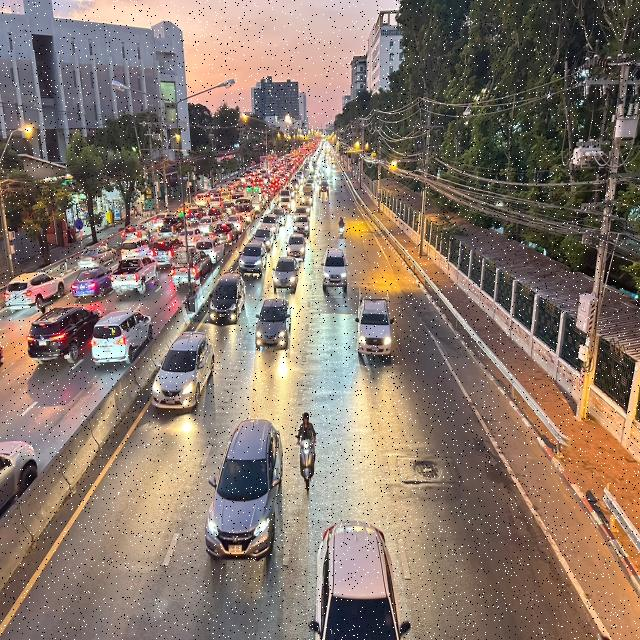bike: (292, 400, 321, 502)
car: (201, 413, 289, 565)
